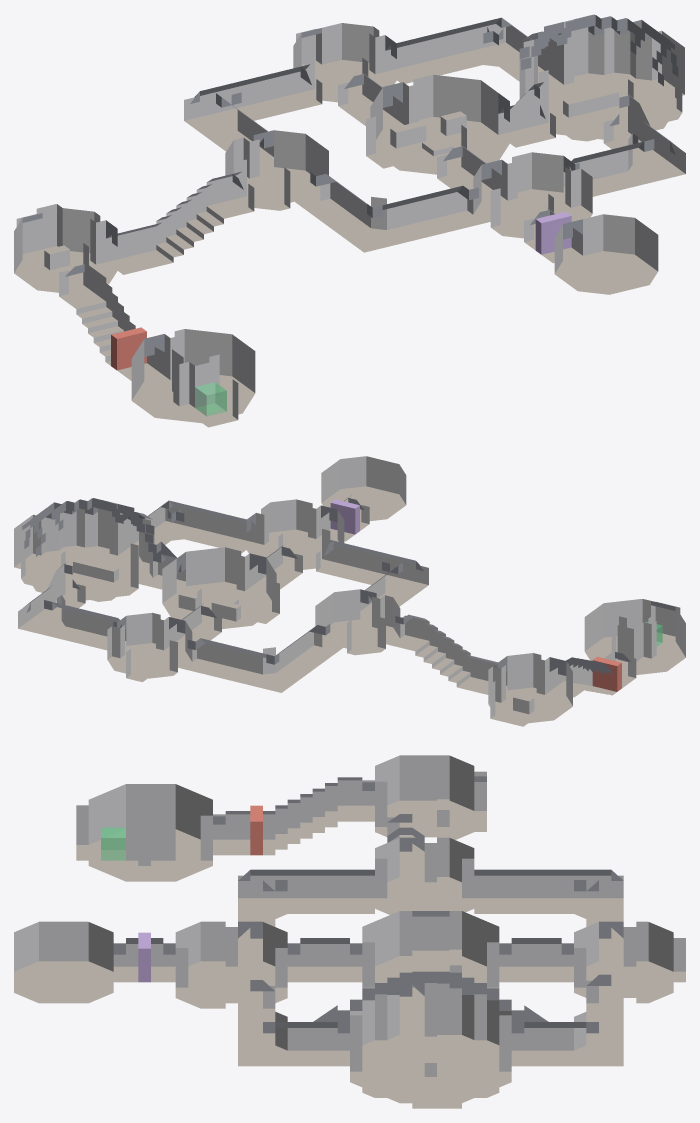
Rendered from pod_derelict_02.glb.
3 views of the same model, one above another, from view 1: azimuth 30°, elevation 25°; view 2: azimuth 150°, elevation 25°; view 3: azimuth 270°, elevation 25° (orthographic). The views are drawn at different scales.
Visible parts, largest first — view 1: room:1, room:6, corridor:2, room:5, corridor:7, room:7, corridor:3, corridor:0, room:2, room:4, room:3, corridor:1 (+20 smaller); view 2: room:1, room:6, corridor:7, corridor:2, room:7, room:5, room:4, corridor:3, room:3, corridor:1, corridor:0, room:2 (+20 smaller); view 3: room:1, room:5, corridor:7, room:7, corridor:2, room:4, room:2, corridor:4, room:6, corridor:0, room:0, corridor:1 (+21 smaller).
Part boxes in pixels (x1,y1,x2,y2): room:1: (519,15,682,141); room:6: (370,74,509,175); corridor:2: (301,172,484,252); room:5: (131,329,255,423); corridor:7: (184,64,322,170); room:7: (554,214,658,294); corridor:3: (106,171,254,274); corridor:0: (385,17,540,83); room:2: (473,152,592,239); room:4: (14,204,117,293); room:3: (225,130,328,210); corridor:1: (563,114,685,196); room:1: (21,498,154,601); room:6: (162,547,276,629); corridor:7: (183,624,338,692); corridor:2: (316,539,428,621); room:7: (321,456,406,521); room:5: (584,599,685,675); room:4: (488,653,572,723); corridor:3: (391,614,507,694); room:3: (315,589,400,655); corridor:1: (137,500,255,553); corridor:0: (18,579,126,650); room:2: (246,499,344,570); room:1: (350,971,511,1103); room:5: (88,784,212,881); corridor:7: (474,869,623,961); room:7: (14,921,113,1003); corridor:2: (238,869,374,961); room:4: (375,755,486,839); room:2: (175,921,287,1008); corridor:4: (213,777,374,855); room:6: (362,911,499,1013); corridor:0: (511,974,623,1066); room:0: (574,921,673,1003); corridor:1: (238,980,349,1066).
Bounding box in the file's own units: 66 × 13 × 54.
